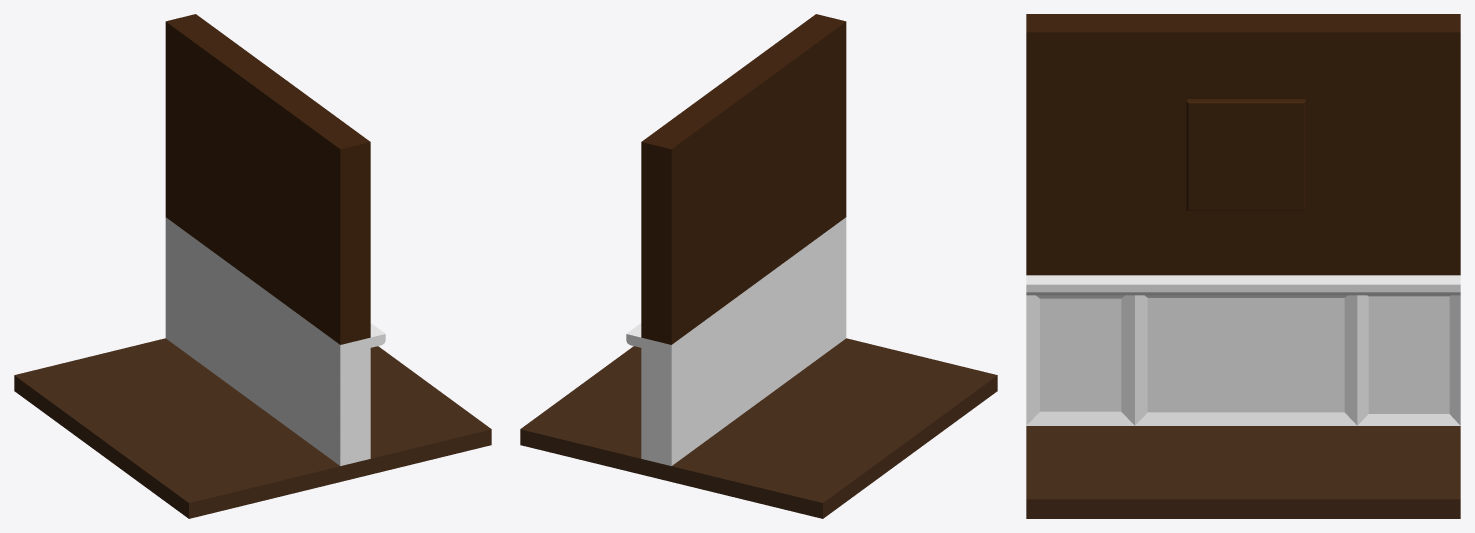
The model's file is Ceiling.fbx.
3 views of the same model, side by side, from view 1: azimuth 30°, elevation 25°; view 2: azimuth 150°, elevation 25°; view 3: azimuth 270°, elevation 25° (orthographic). The views are drawn at different scales.
Visible parts, largest first — view 1: Normal Wall, Ceiling; view 2: Normal Wall, Ceiling; view 3: Normal Wall, Ceiling, Normal Wall 2.
Boxes of the visible parts, x1,y1,x2,y2 form: Normal Wall: [165, 14, 385, 465]; Ceiling: [14, 338, 491, 518]; Normal Wall: [626, 14, 846, 465]; Ceiling: [520, 338, 997, 518]; Normal Wall: [1026, 14, 1460, 425]; Ceiling: [1026, 426, 1460, 518]; Normal Wall 2: [1135, 32, 1357, 275].
Size of the model in its own units: 200 by 210 by 200.
